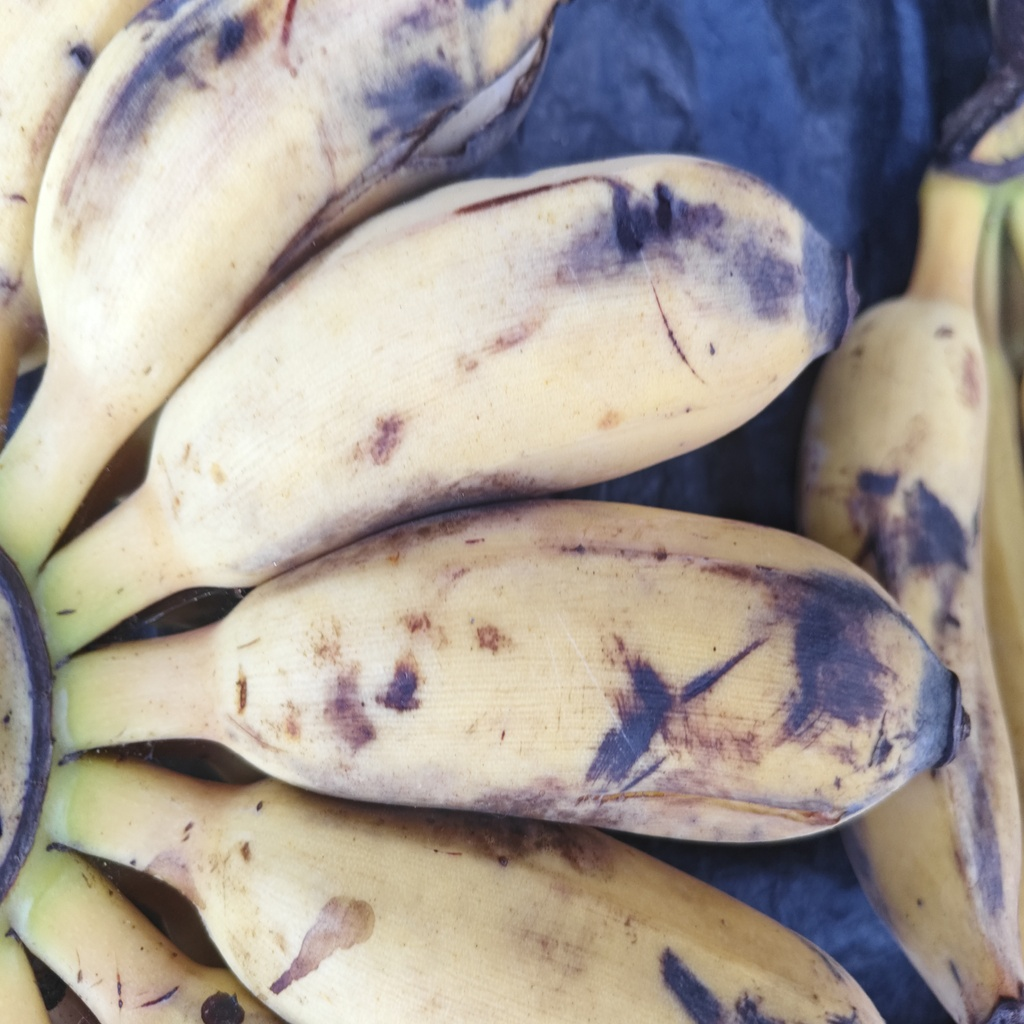healthy: (152, 152, 855, 582), (198, 501, 970, 838)
